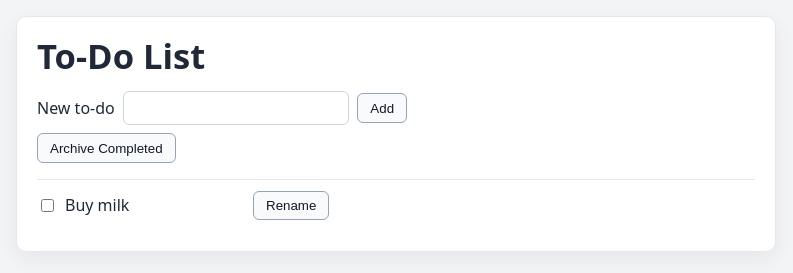
Scenario: App › it renames an existing todo item
Expected: the text "Buy milk" is shown, [65,194,129,216]
Click the button "Rename". click: (291, 206)
box: [253,191,329,220]
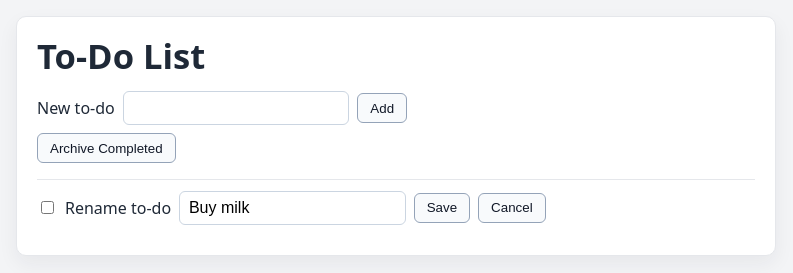
Replace the text in the field labelled "Rename to-do" with "Buy oat milk". click: (292, 208)
box: [179,191,406,225]
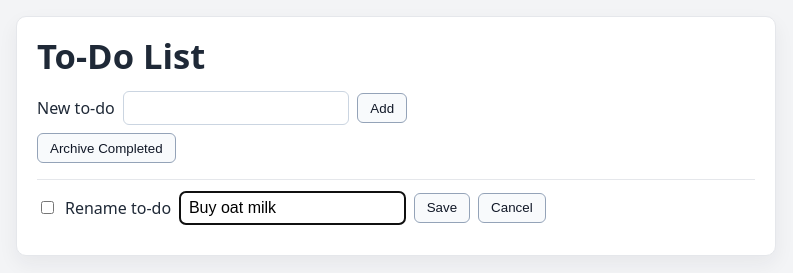
Click the button "Save". click: (442, 208)
box: [414,193,470,223]
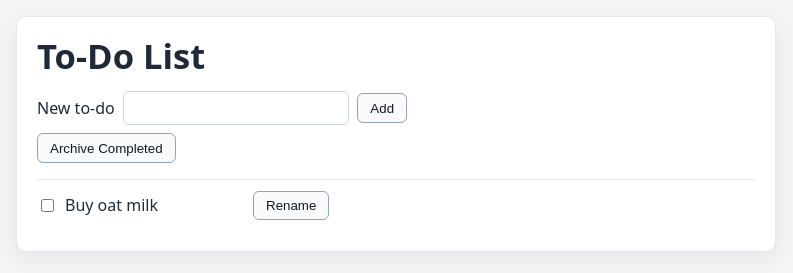
Result: the text "Buy oat milk" is shown at [65,194,158,216]
